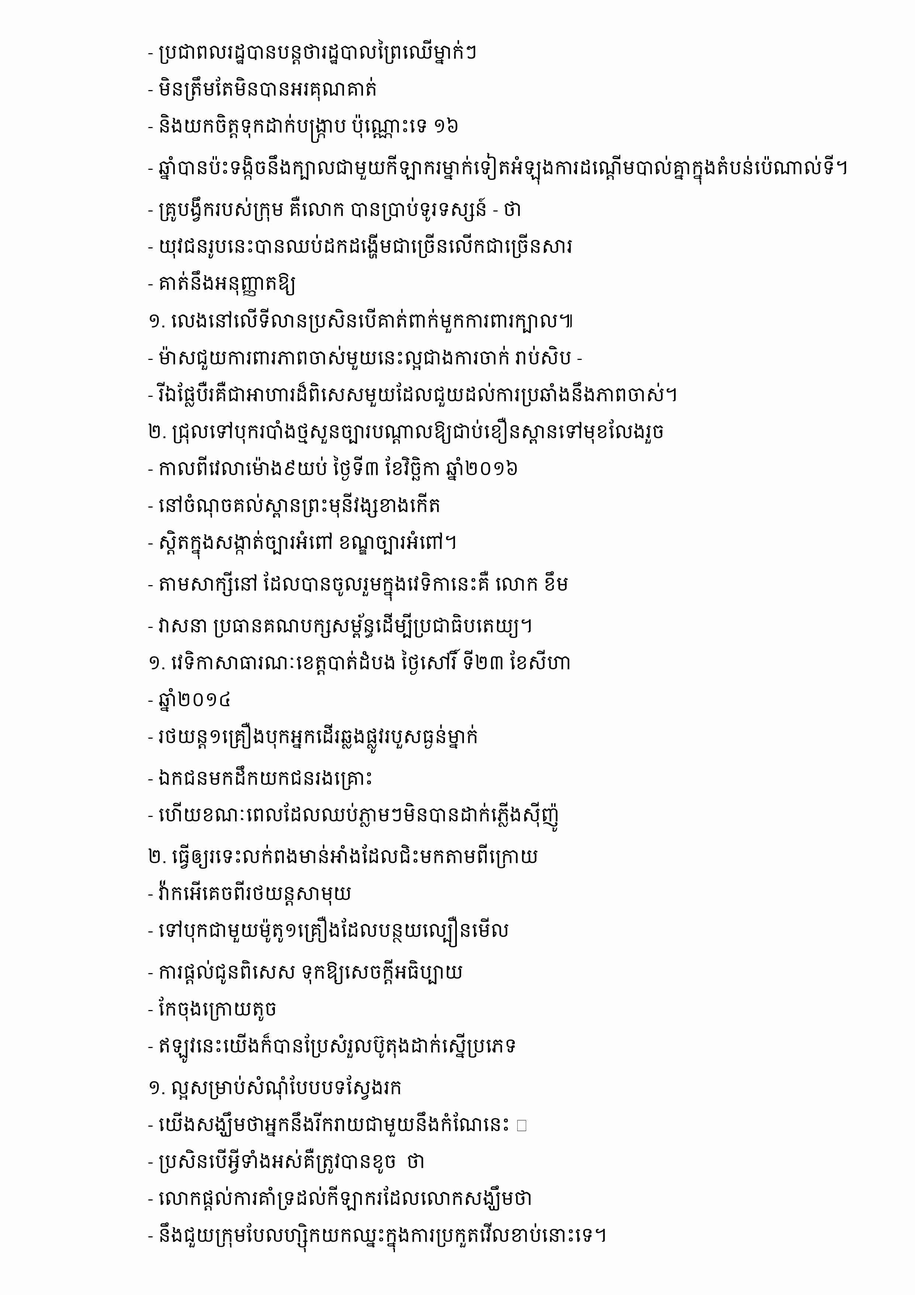text: (148, 153, 853, 185), (148, 1222, 612, 1253), (148, 417, 669, 444), (148, 381, 683, 407), (148, 571, 574, 601), (148, 802, 564, 832), (148, 916, 514, 948), (148, 1033, 522, 1063), (148, 233, 578, 259), (148, 649, 576, 675), (148, 308, 579, 333), (148, 722, 483, 754), (148, 346, 587, 370), (148, 1185, 538, 1211), (148, 844, 543, 869), (148, 196, 527, 222), (148, 613, 538, 638), (148, 1112, 533, 1137), (148, 530, 462, 560), (148, 456, 524, 481), (148, 114, 465, 143), (148, 39, 483, 65), (148, 959, 468, 985), (148, 492, 446, 518), (148, 1148, 430, 1174), (148, 1075, 407, 1100), (148, 76, 383, 102), (148, 765, 378, 790), (148, 880, 357, 906), (148, 270, 301, 296), (148, 996, 282, 1021), (148, 688, 236, 712)
